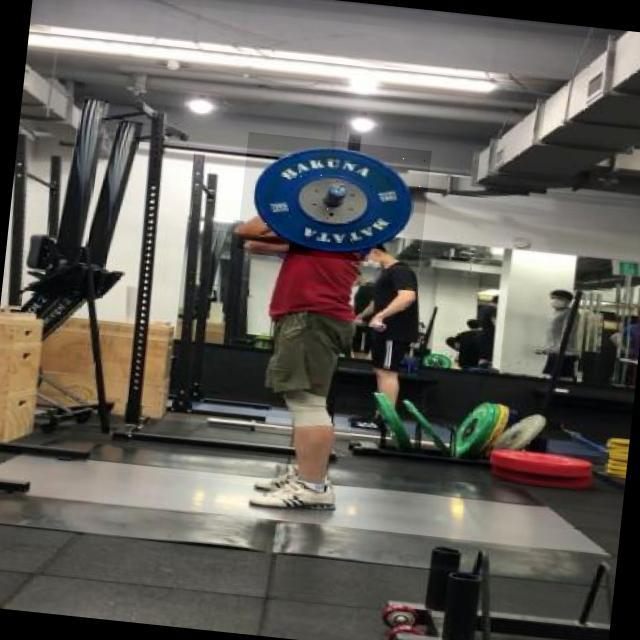barbell: (237, 133, 432, 269)
